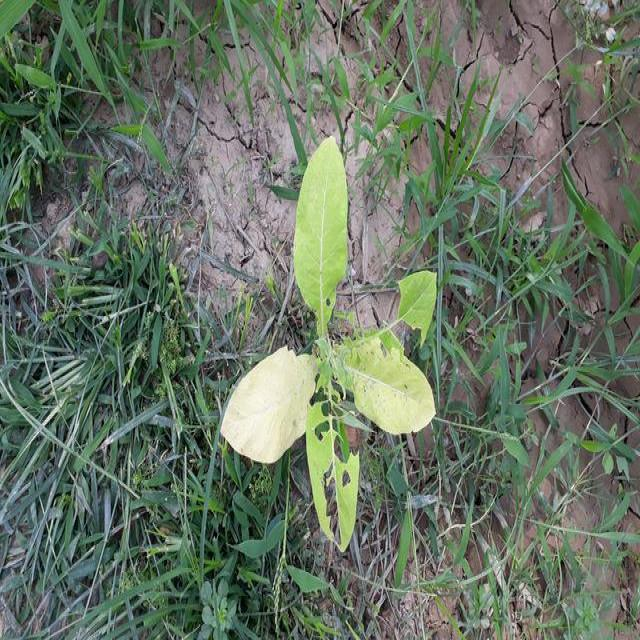crop: (218, 131, 447, 557)
